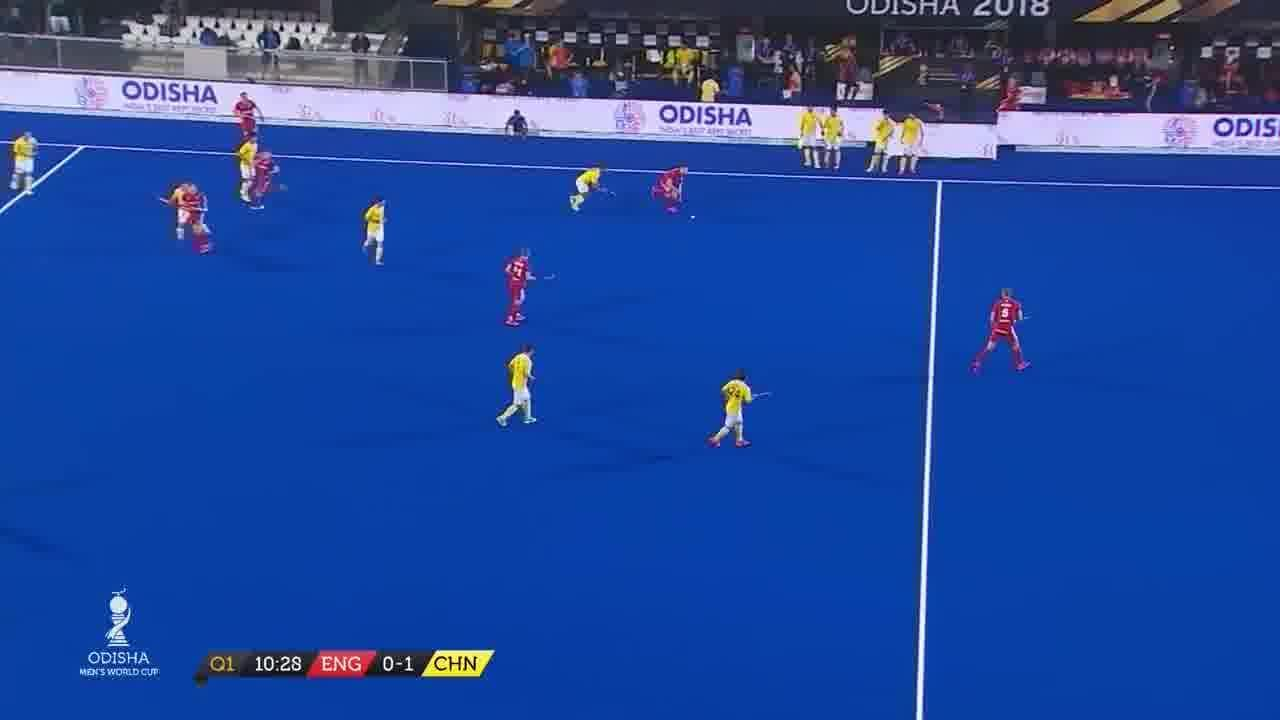ball: (689, 212, 698, 220)
